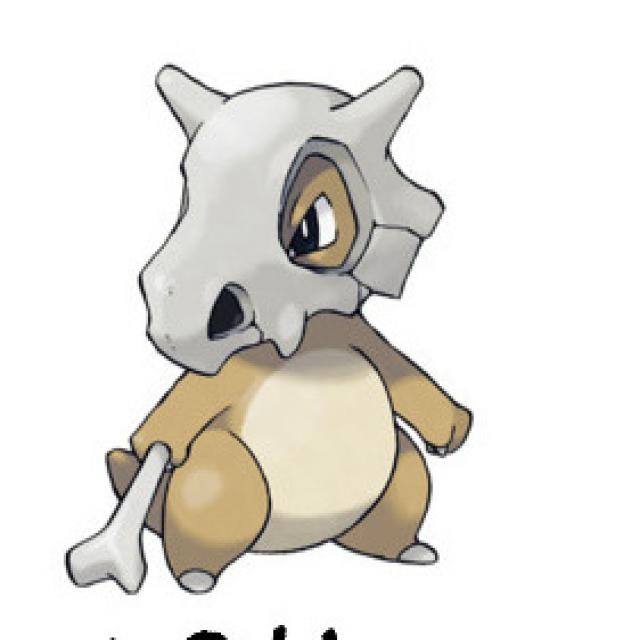Cubone: (68, 51, 477, 574)
